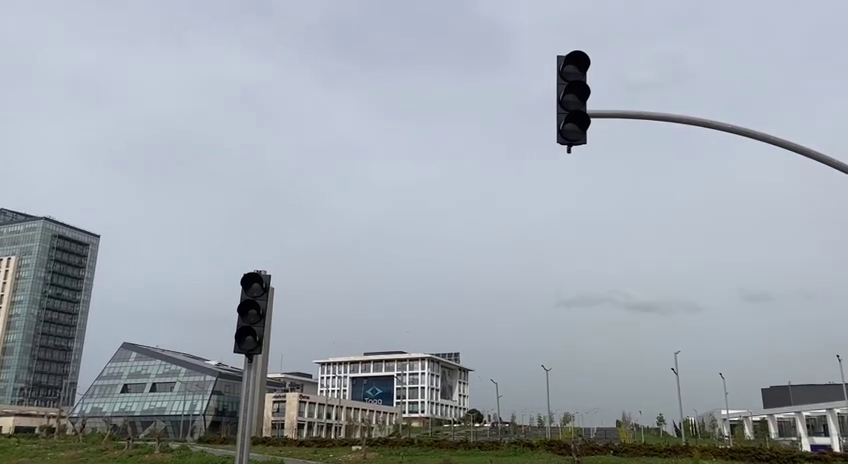trafficLight: (550, 45, 596, 154), (227, 266, 274, 361)
